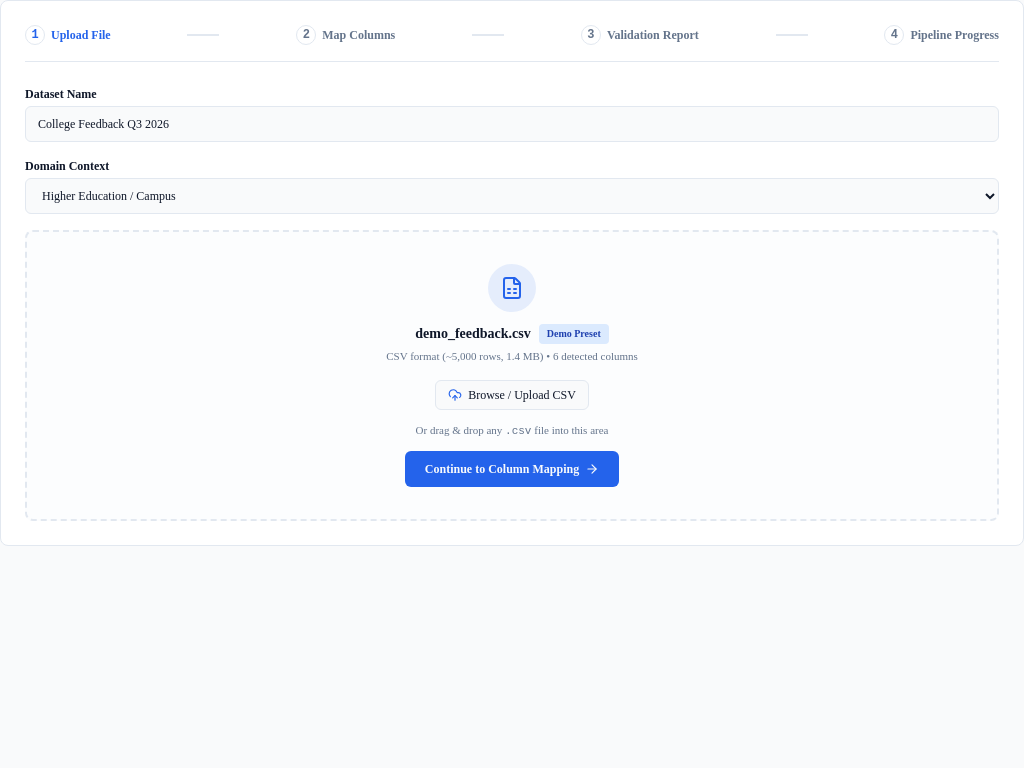
Test: UploadWizard Component › advances from step 1 to step 2 (Column Mapping)
Step 1. Click the button "Continue to Column Mapping" → (512, 469), box [405,451,619,487]
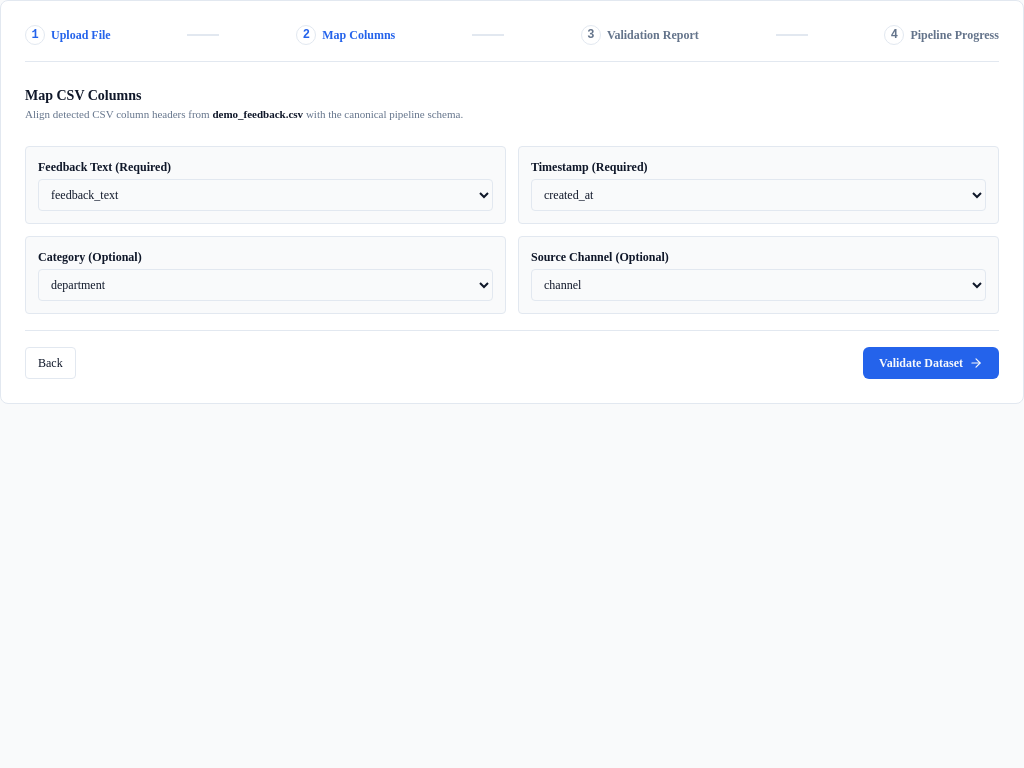
Expected: the heading "Map CSV Columns" is shown, [25,88,141,103]
Expected: the text "Feedback Text (Required)" is shown, [38,160,171,174]
